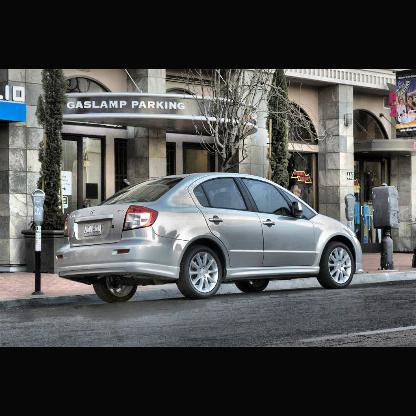Suzuki Aerio Sedan 2007: (53, 170, 366, 300)
